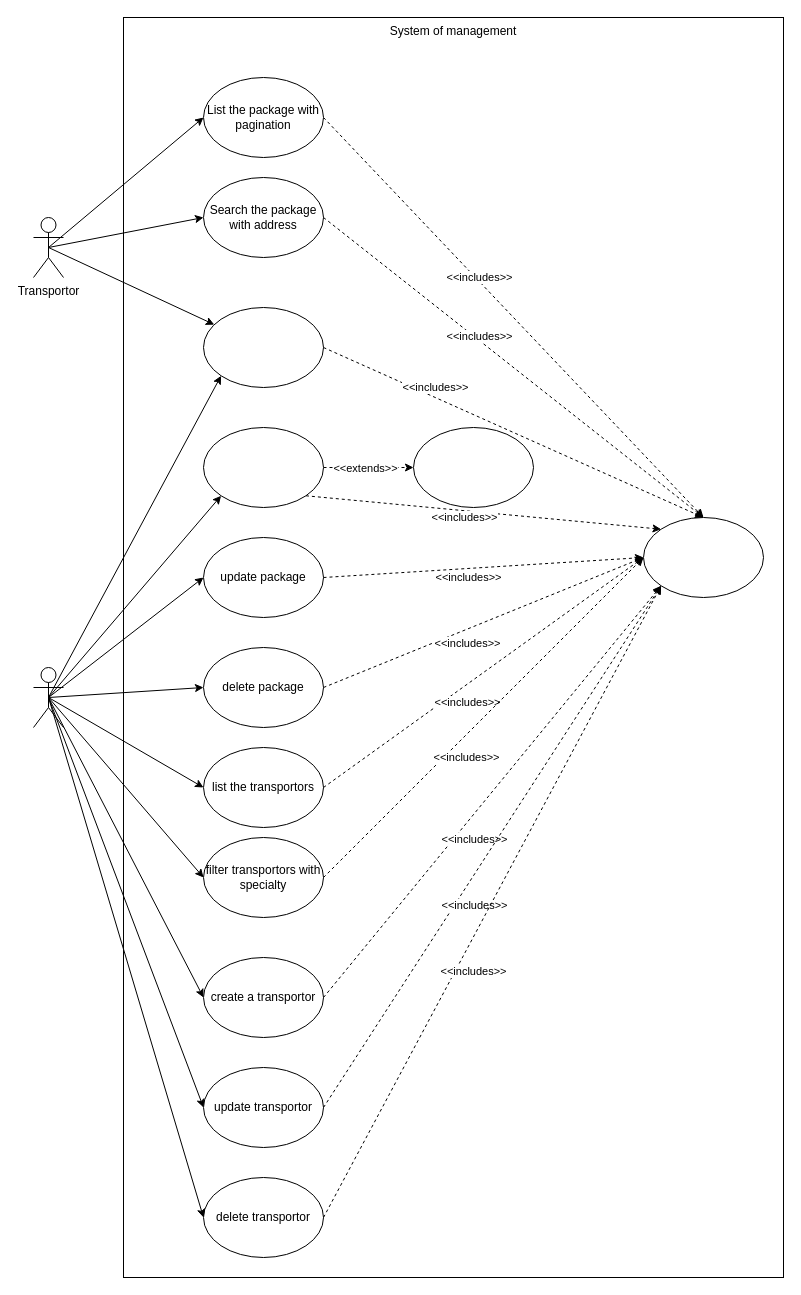
The diagram is 801 pixels wide and 1295 high, and some of its shapes have lost their labels. Here are the shapes that lost their labels. From the top down, the centre of each, then its label:
At point 263,347: "update package status".
At point 263,467: "create a package".
At point 473,467: "assign to a transportor".
At point 703,557: "Authenticate".
At point 48,697: "Admin".
